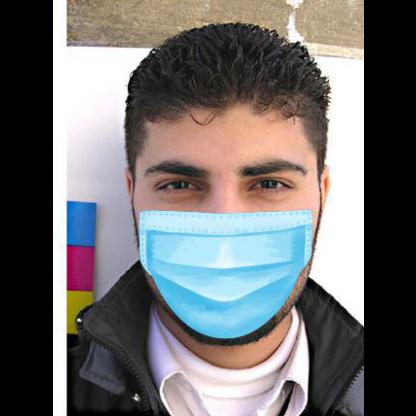Surgical Mask: (120, 116, 310, 346)
